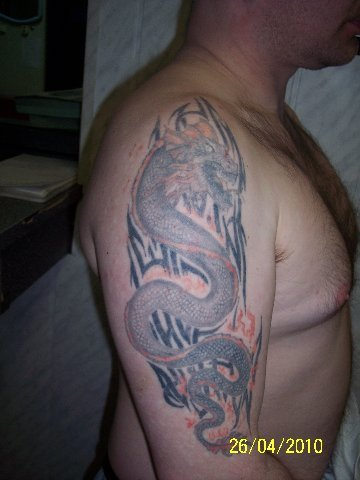tatu6_drakon: (114, 89, 272, 431)
